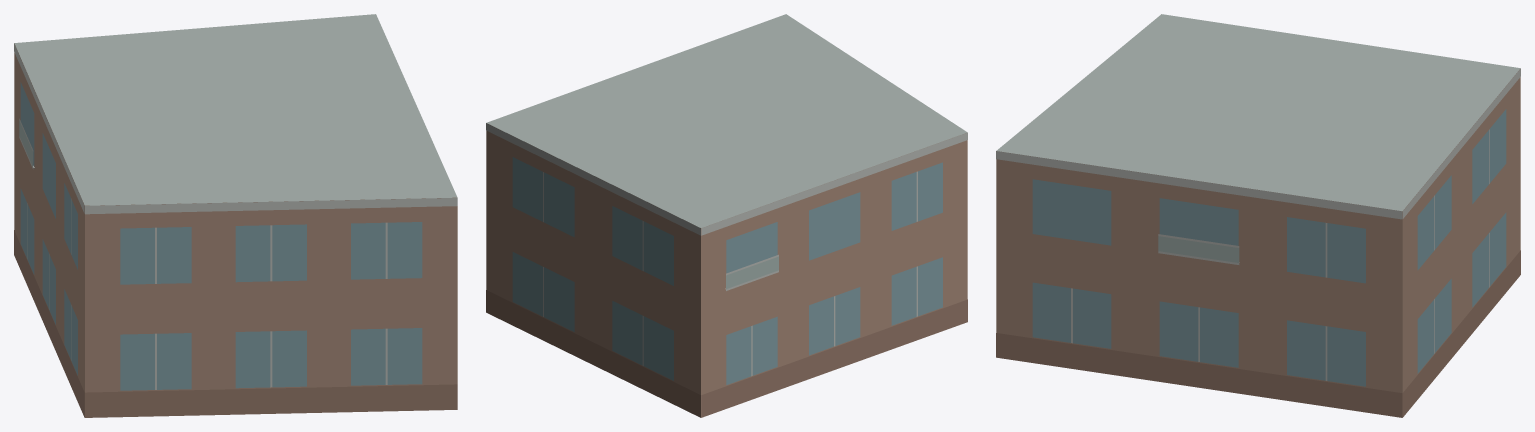
File: survey-upis-32870106.glb
3 views of the same model, side by side, from view 1: azimuth 30°, elevation 25°; view 2: azimuth 150°, elevation 25°; view 3: azimuth 270°, elevation 25° (orthographic). The views are drawn at different scales.
Visible parts, largest first — view 1: survey-upis-32870106.tmp; view 2: survey-upis-32870106.tmp; view 3: survey-upis-32870106.tmp.
Boxes of the visible parts, x1,y1,x2,y2 form: survey-upis-32870106.tmp: [14, 14, 457, 417]; survey-upis-32870106.tmp: [486, 14, 967, 417]; survey-upis-32870106.tmp: [996, 14, 1520, 417].
Size of the model in its own units: 12.5 by 6.1 by 14.05.
